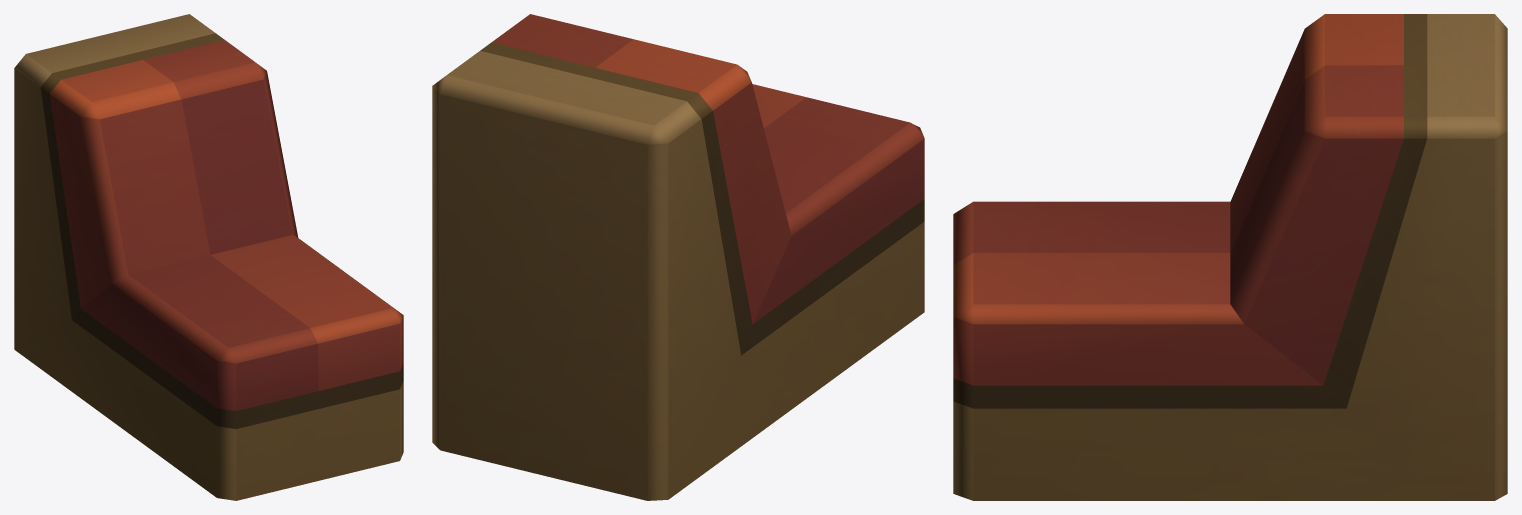
File: chair_roof_x1_red.fbx
3 views of the same model, side by side, from view 1: azimuth 30°, elevation 25°; view 2: azimuth 150°, elevation 25°; view 3: azimuth 270°, elevation 25° (orthographic). The views are drawn at different scales.
Visible parts, largest first — view 1: chair_roof_x1_red; view 2: chair_roof_x1_red; view 3: chair_roof_x1_red.
Boxes of the visible parts, x1,y1,x2,y2 form: chair_roof_x1_red: (14,14,403,500); chair_roof_x1_red: (432,14,924,500); chair_roof_x1_red: (953,14,1507,500).
Size of the model in its own units: 50 by 75 by 100.
